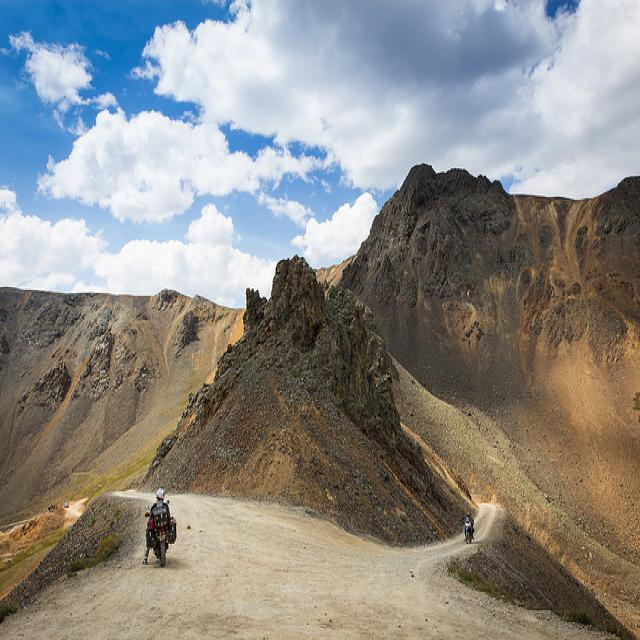motor: (145, 499, 177, 567), (460, 519, 473, 545)
